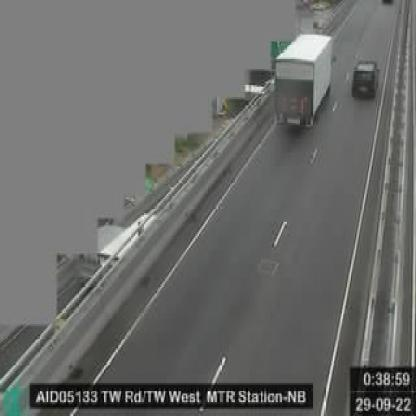Car: (348, 52, 389, 104)
Truck: (269, 27, 338, 132)
